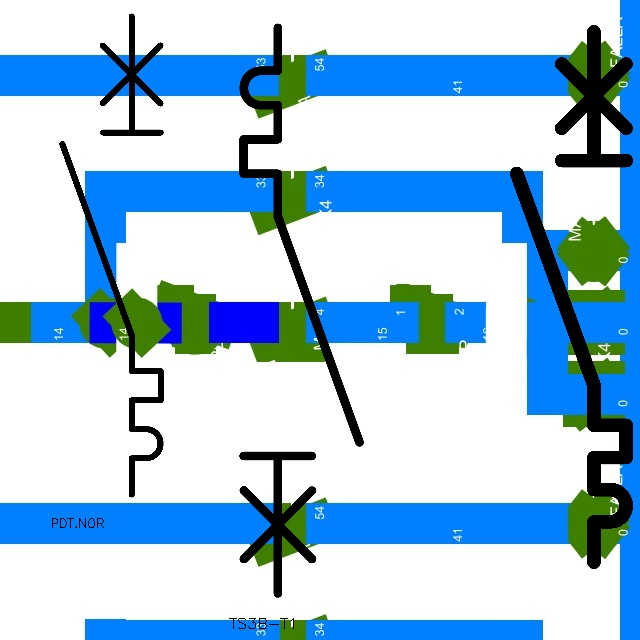interruptor_termomagnetico: (229, 13, 374, 607), (503, 18, 640, 576), (50, 4, 173, 507)
